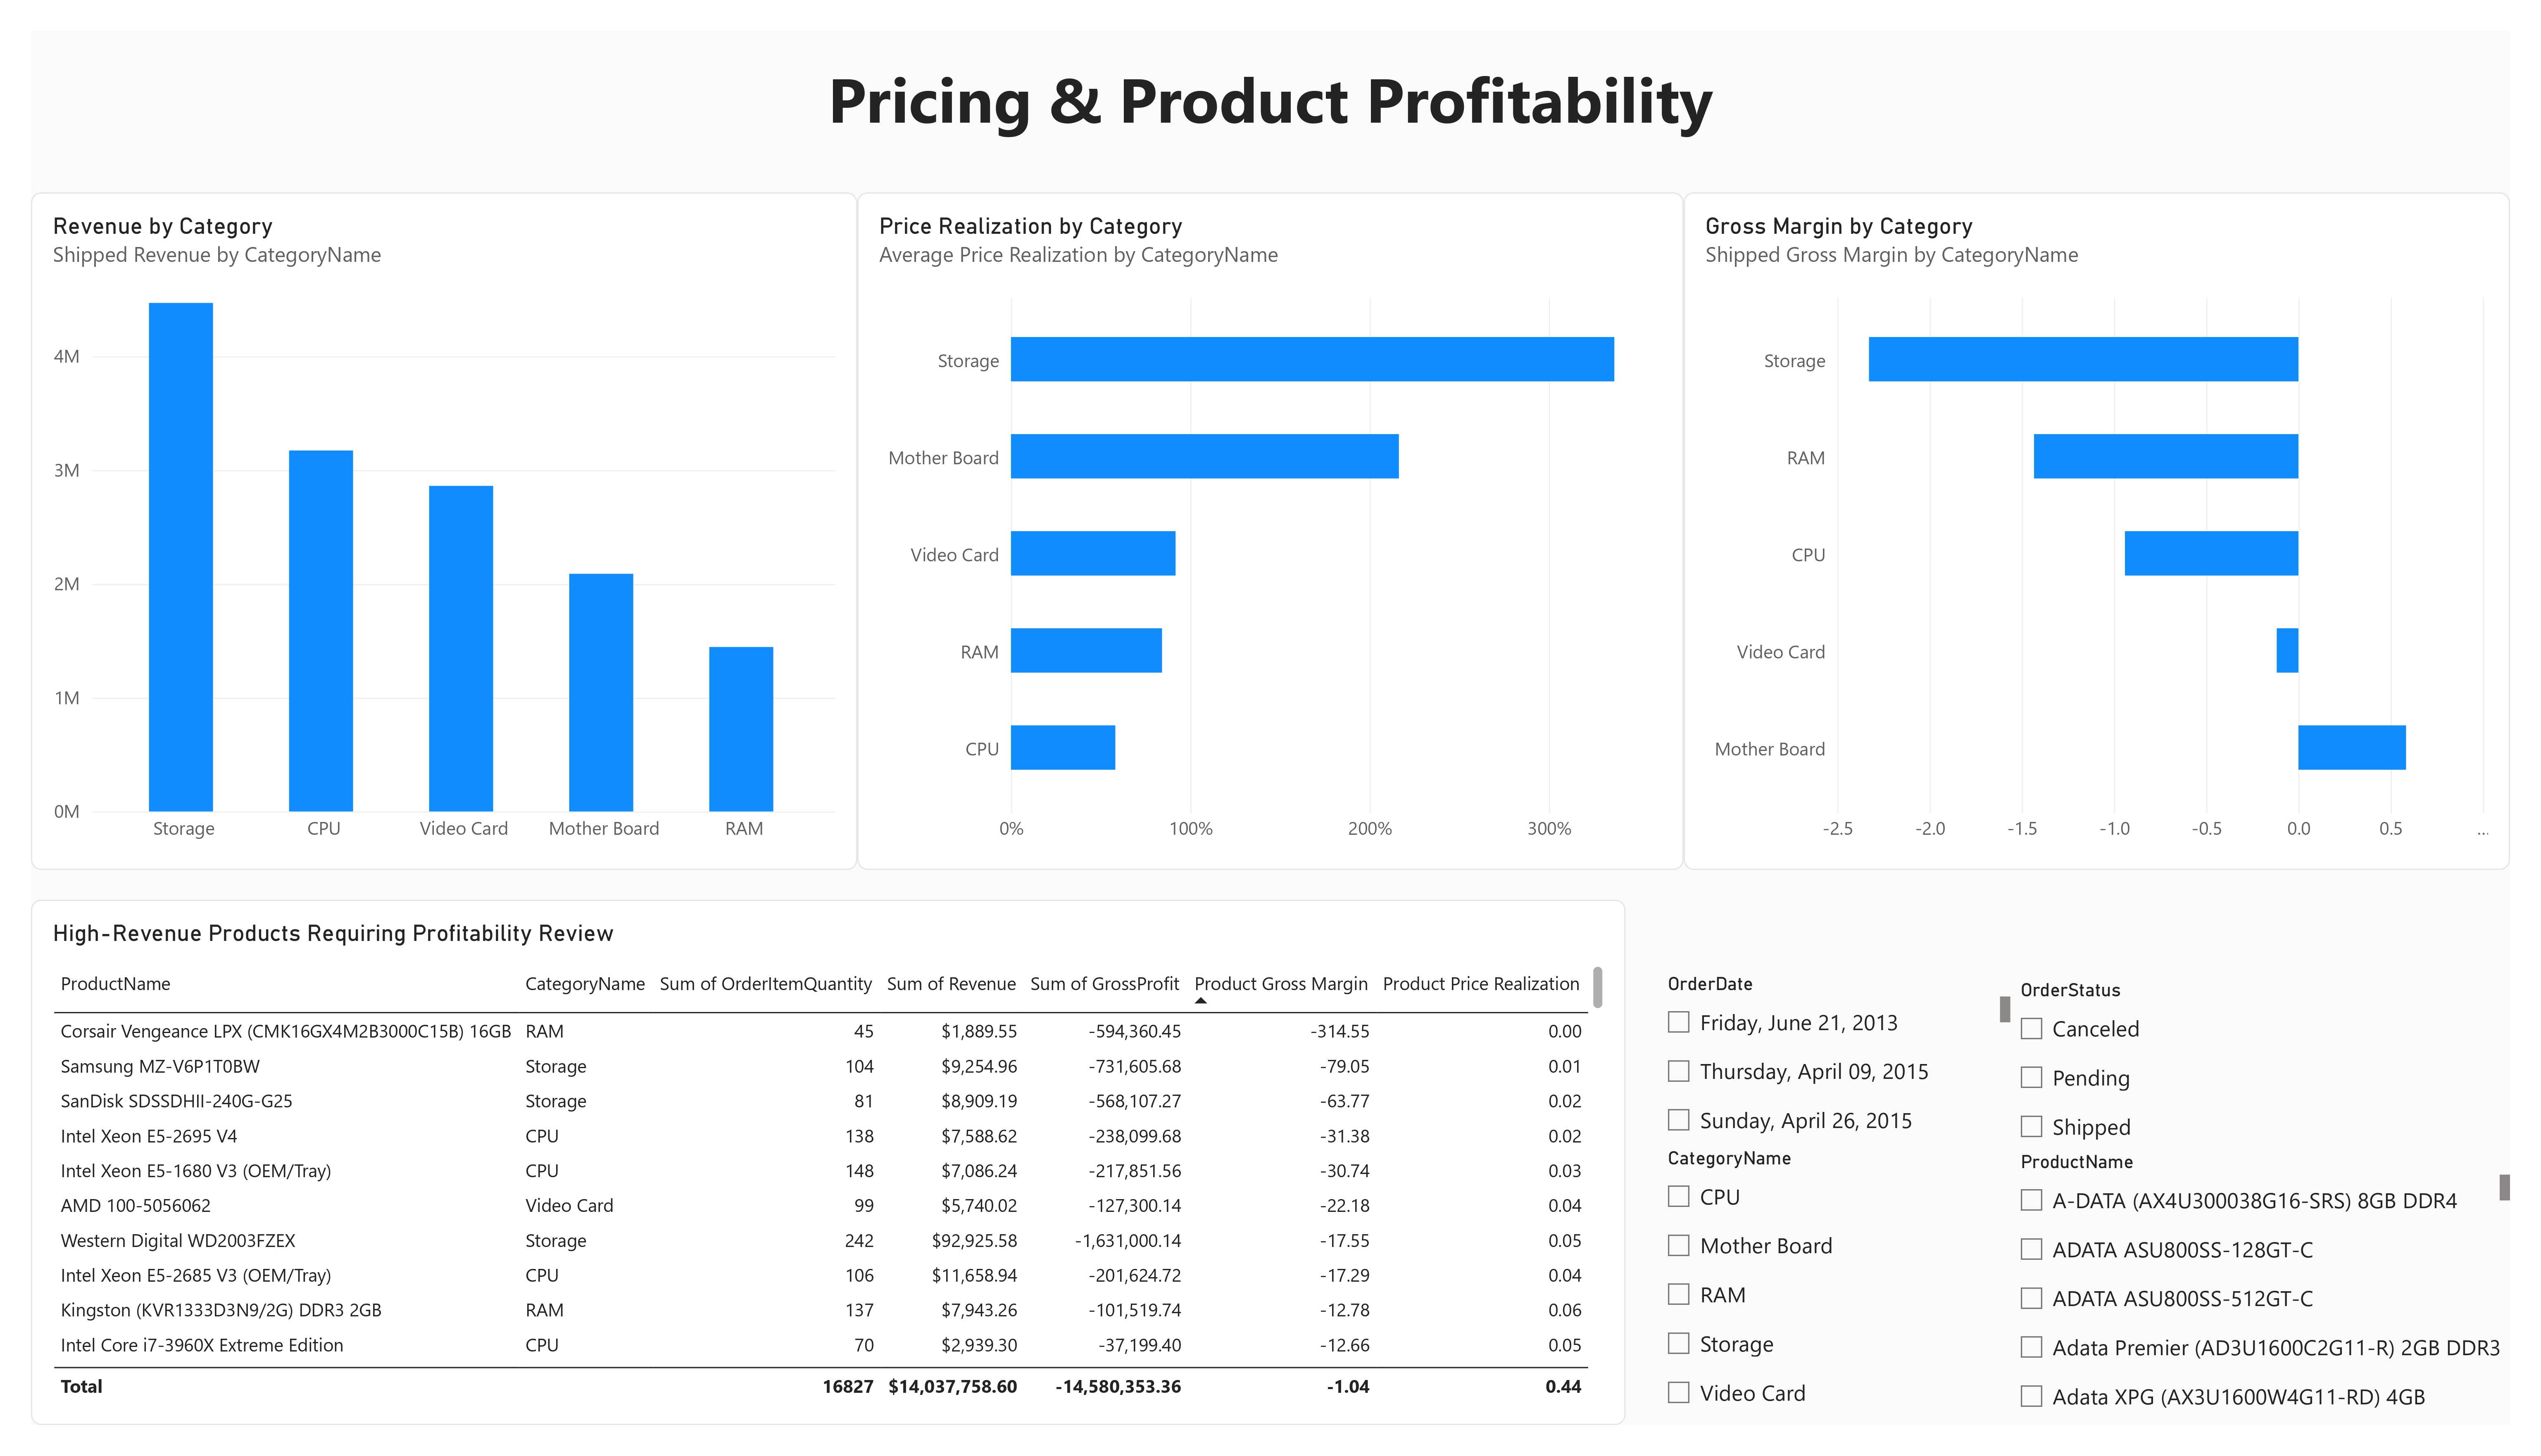

The dashboard page shown, as its layout file describes it:
{"tool":"powerbi","page":{"name":"Pricing & Product Profitability","canvas":[1920,1080],"ordinal":1},"visuals":[{"type":"columnChart","title":"Revenue by Category","fields":{"Category":["OrderData.CategoryName"],"Y":["OrderData.Shipped Revenue"]},"box":[0,125,640,525],"z":0},{"type":"barChart","title":"Gross Margin by Category","fields":{"Category":["OrderData.CategoryName"],"Y":["OrderData.Shipped Gross Margin"]},"box":[1280,125,640,525],"z":1000},{"type":"barChart","title":"Price Realization by Category","fields":{"Category":["OrderData.CategoryName"],"Y":["OrderData.Average Price Realization"]},"box":[640,125,640,525],"z":2000},{"type":"tableEx","title":"High-Revenue Products Requiring Profitability Review","fields":{"Values":["OrderData.ProductName","OrderData.CategoryName","Sum(OrderData.OrderItemQuantity)","Sum(OrderData.Revenue)","Sum(OrderData.GrossProfit)","OrderData.Product Gross Margin","OrderData.Product Price Realization"]},"box":[0,672.5,1235,407.5],"z":3000},{"type":"slicer","fields":{"Values":["OrderData.OrderDate"]},"box":[1260,730,272.5,135],"z":4000},{"type":"slicer","fields":{"Values":["OrderData.OrderStatus"]},"box":[1532.5,735,272.5,132.5],"z":5000},{"type":"slicer","fields":{"Values":["OrderData.CategoryName"]},"box":[1260,865,272.5,212.5],"z":6000},{"type":"slicer","fields":{"Values":["OrderData.ProductName"]},"box":[1532.5,867.5,387.5,212.5],"z":7000},{"type":"textbox","box":[0,0,1920,125],"z":8000}]}

Visuals, with their boxes on the page's 1920x1080 design canvas (x1, y1, x2, y2). These are canvas units, not pixel positions in the 2541x1456 screenshot, which may show the page scaled, cropped or inside an application window:
"Revenue by Category" columnChart: (0, 125, 640, 650)
"Gross Margin by Category" barChart: (1280, 125, 1920, 650)
"Price Realization by Category" barChart: (640, 125, 1280, 650)
"High-Revenue Products Requiring Profitability Review" tableEx: (0, 672, 1235, 1080)
slicer - OrderData.OrderDate: (1260, 730, 1532, 865)
slicer - OrderData.OrderStatus: (1532, 735, 1805, 868)
slicer - OrderData.CategoryName: (1260, 865, 1532, 1078)
slicer - OrderData.ProductName: (1532, 868, 1920, 1080)
textbox: (0, 0, 1920, 125)
